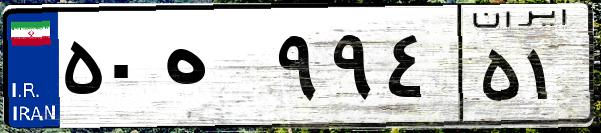0: (110, 28, 158, 98)
1: (525, 38, 570, 115)
4: (385, 28, 445, 110)
5: (57, 26, 110, 100), (475, 38, 525, 113)
9: (270, 28, 330, 110), (330, 28, 385, 110)
ه: (158, 20, 270, 120)
